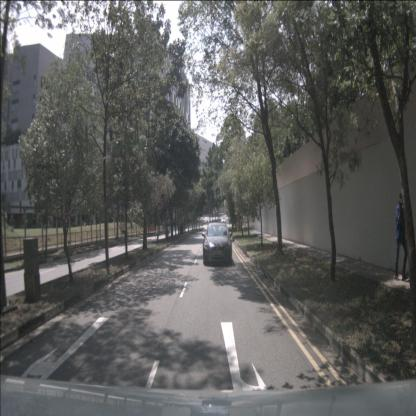human-pedestrian-adult: (394, 192, 410, 282)
movable_object-barrier: (156, 225, 165, 234), (149, 225, 157, 234)
vehicle-car: (203, 222, 233, 264), (221, 216, 226, 224)
